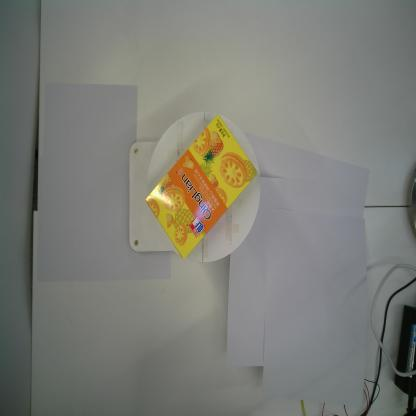Dessert: (143, 112, 260, 261)
